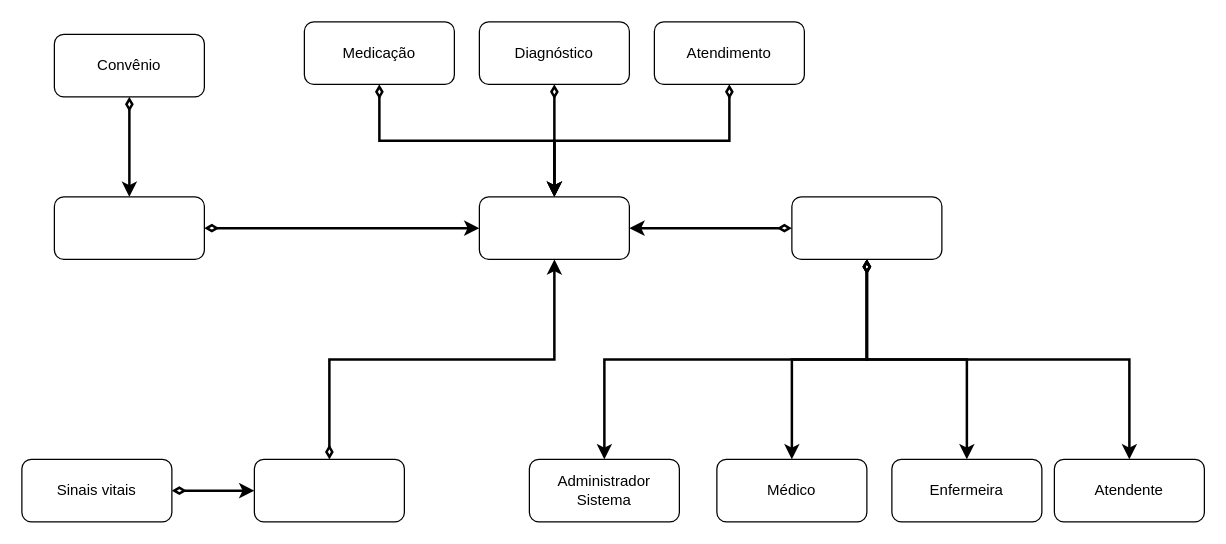
This 1226x544 diagram has some shape labels left out. The centre of each missing label's shape, as x and y in pixels:
Consulta: point (553, 227)
Paciente: point (128, 227)
Triagem: point (328, 490)
Usuário: point (866, 227)
